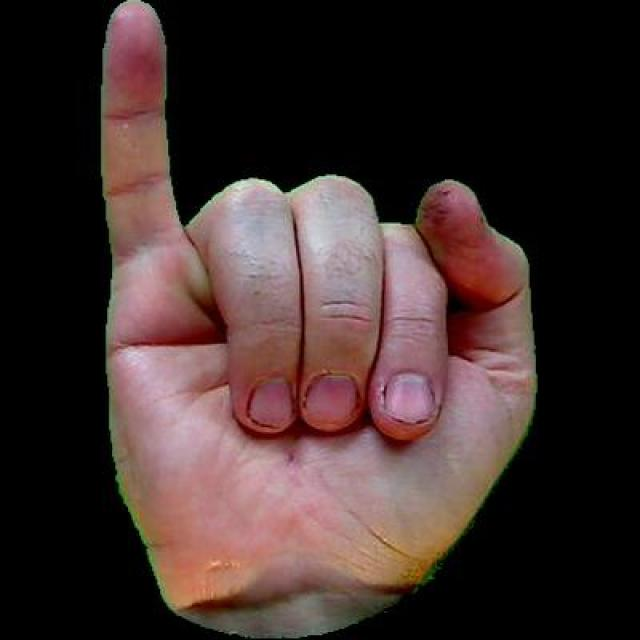i: (74, 0, 538, 637)
